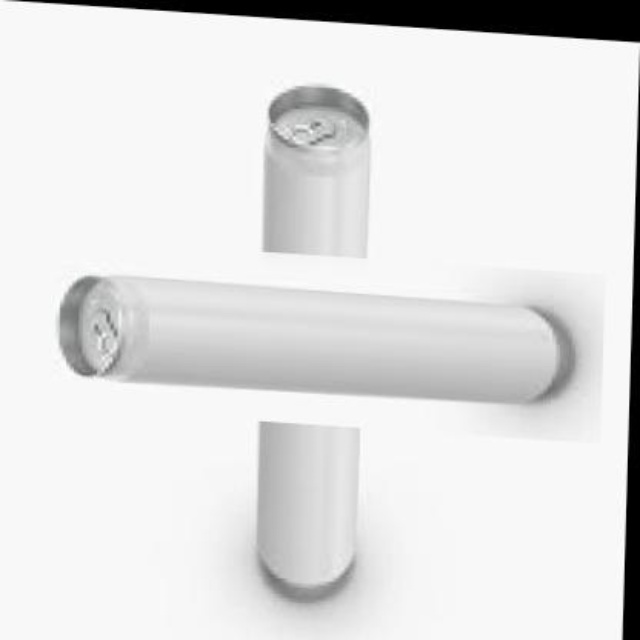trash: (60, 277, 569, 402), (263, 86, 368, 255), (257, 422, 358, 589)
